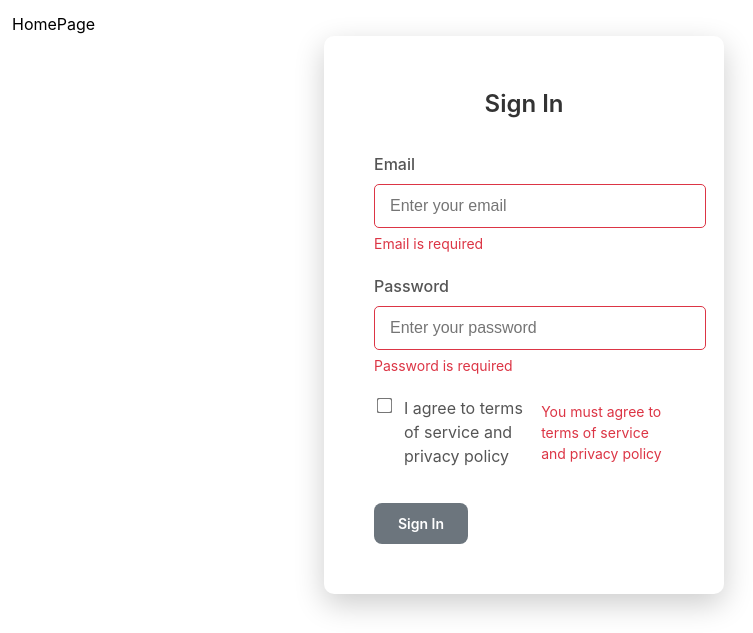
Login page › Pass ve email yanlış girirsek hata vercek mi
The width and height of the screenshot is (753, 633).
In the field with id "email": (540, 206) [374, 184, 706, 228], type "invalid-email"
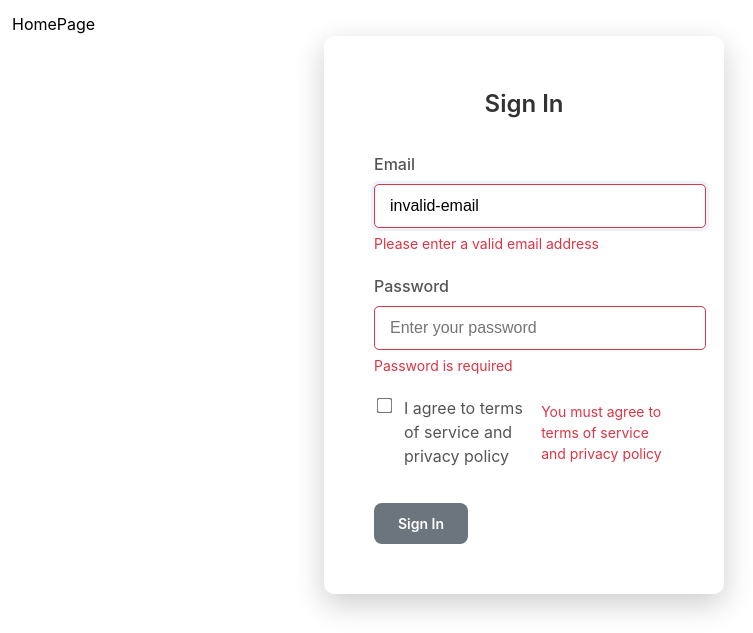
In the password field labelled "Password": (540, 328) [374, 306, 706, 350], type "123"
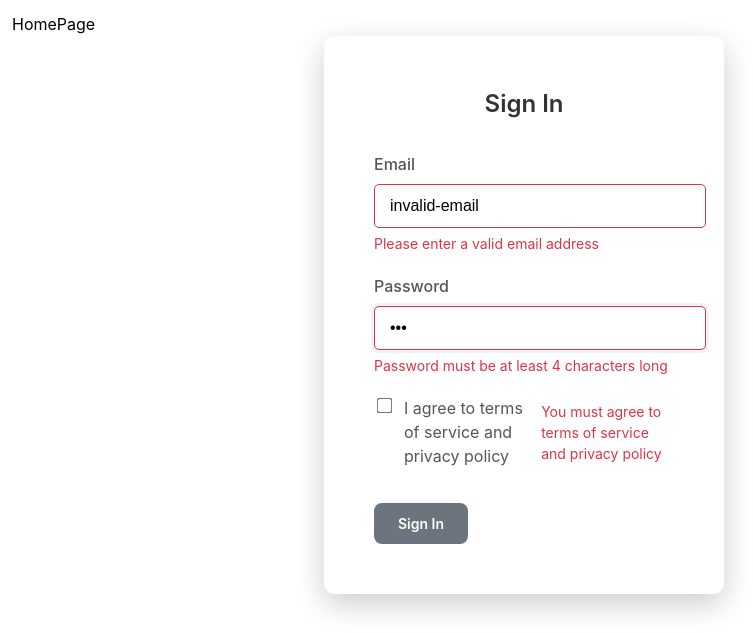
Check: the number of elements with class "show" is 3, box [374, 235, 599, 252]; [374, 355, 674, 376]; [541, 401, 674, 464]
Check: the text with class "show" reads "Please enter a valid email address", box [374, 235, 599, 252]
Check: the text with class "show" reads "Password must be at least 4 characters long", box [374, 357, 668, 374]
